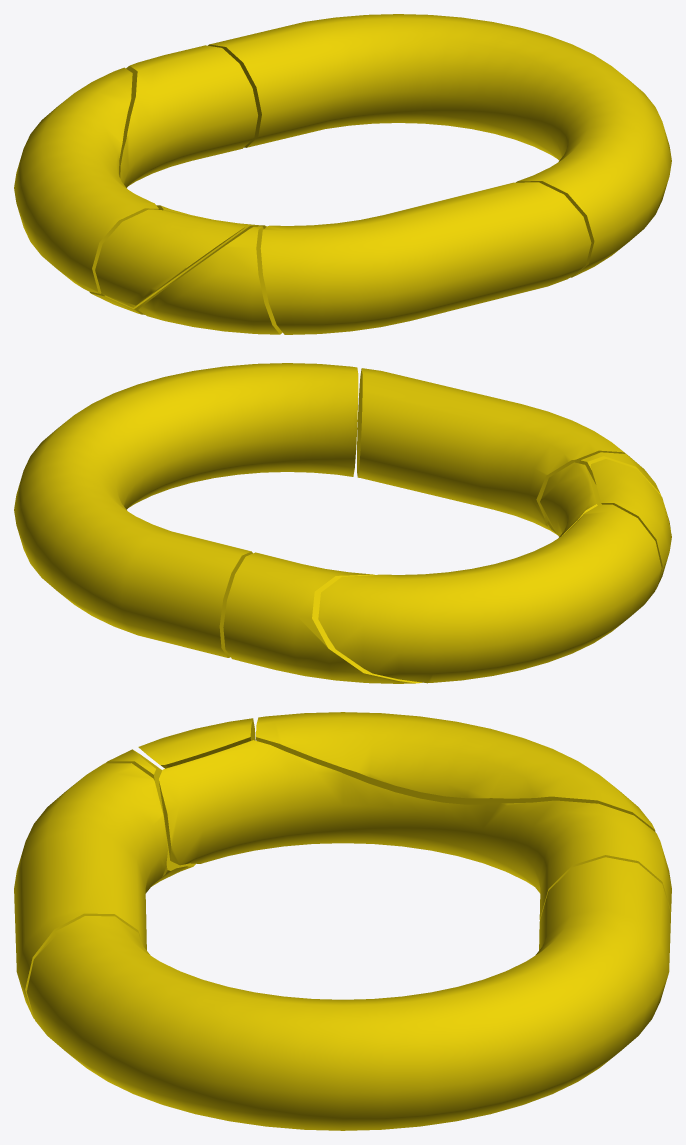
File: broke.fbx
3 views of the same model, one above another, from view 1: azimuth 30°, elevation 25°; view 2: azimuth 150°, elevation 25°; view 3: azimuth 270°, elevation 25° (orthographic). The views are drawn at different scales.
Visible parts, largest first — view 1: Torus.002_cell.203, Torus.002_cell.201, Torus.002_cell.200, Torus.002_cell.202, Torus.002_cell.205, Torus.002_cell.204; view 2: Torus.002_cell.203, Torus.002_cell.200, Torus.002_cell.201, Torus.002_cell.202, Torus.002_cell.204, Torus.002_cell.205; view 3: Torus.002_cell.203, Torus.002_cell.202, Torus.002_cell.200, Torus.002_cell.201, Torus.002_cell.204, Torus.002_cell.205.
Part boxes in pixels (box(x1,y1,x2,y2)): Torus.002_cell.203: box(208, 14, 671, 277); Torus.002_cell.201: box(260, 182, 591, 334); Torus.002_cell.200: box(14, 67, 158, 293); Torus.002_cell.202: box(89, 45, 266, 314); Torus.002_cell.205: box(138, 226, 282, 334); Torus.002_cell.204: box(95, 209, 246, 307); Torus.002_cell.203: box(14, 363, 358, 657); Torus.002_cell.200: box(318, 504, 661, 683); Torus.002_cell.201: box(357, 368, 638, 534); Torus.002_cell.202: box(223, 462, 601, 683); Torus.002_cell.204: box(590, 459, 671, 589); Torus.002_cell.205: box(547, 452, 670, 533); Torus.002_cell.203: box(26, 857, 670, 1130); Torus.002_cell.202: box(158, 740, 671, 919); Torus.002_cell.200: box(256, 712, 655, 832); Torus.002_cell.201: box(14, 763, 167, 1018); Torus.002_cell.204: box(138, 718, 255, 768); Torus.002_cell.205: box(105, 749, 195, 886).
Size of the model in its own units: 309 by 50 by 250.
